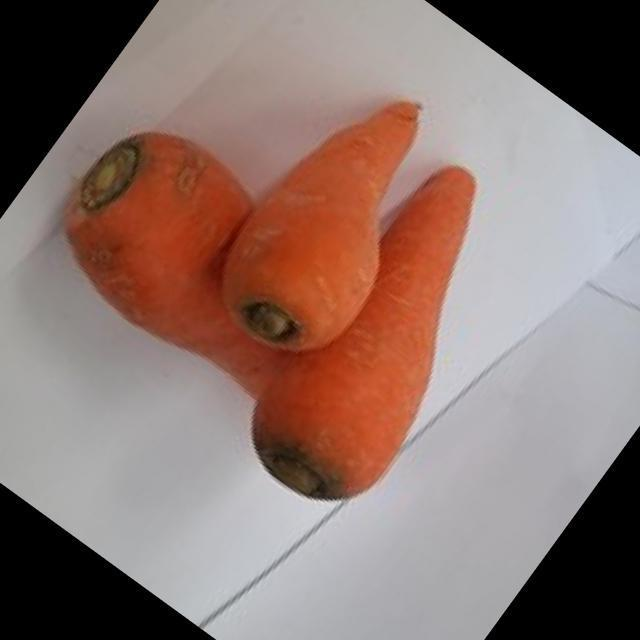Carrot: (254, 168, 474, 498), (66, 134, 278, 397), (224, 104, 418, 350)
